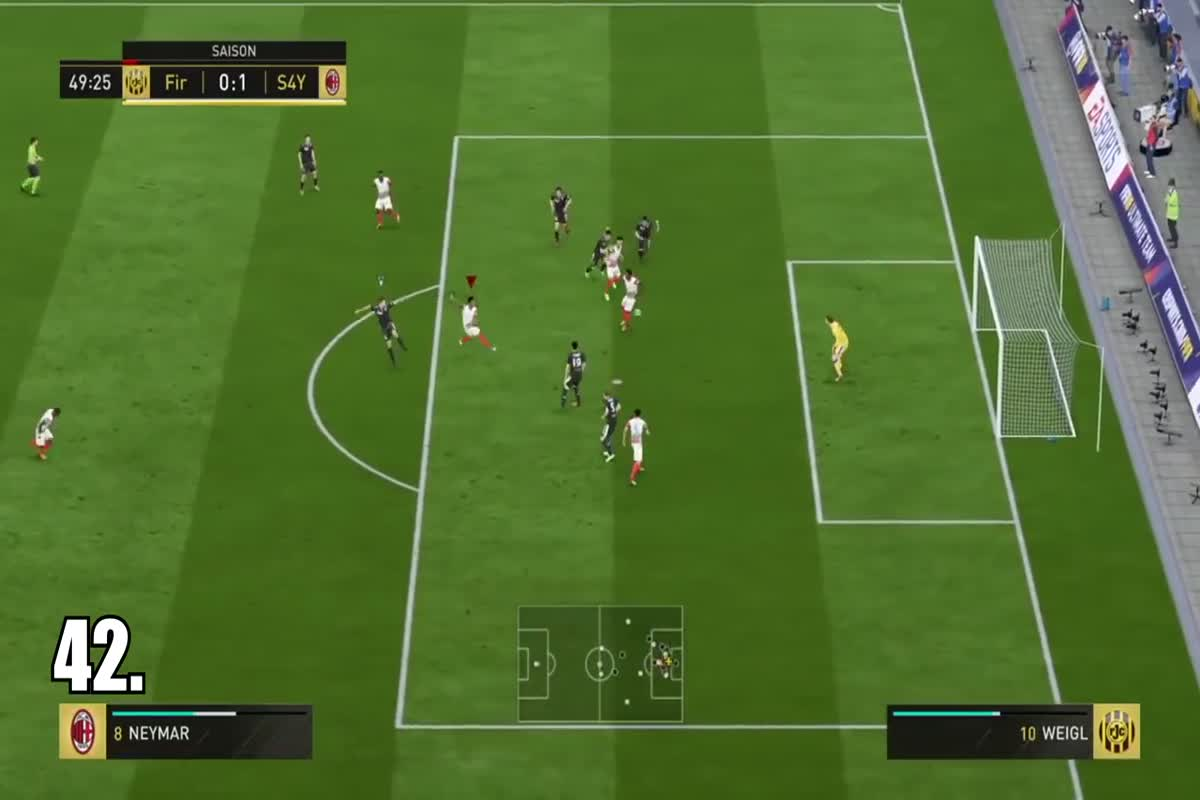ball: (631, 301, 654, 323)
